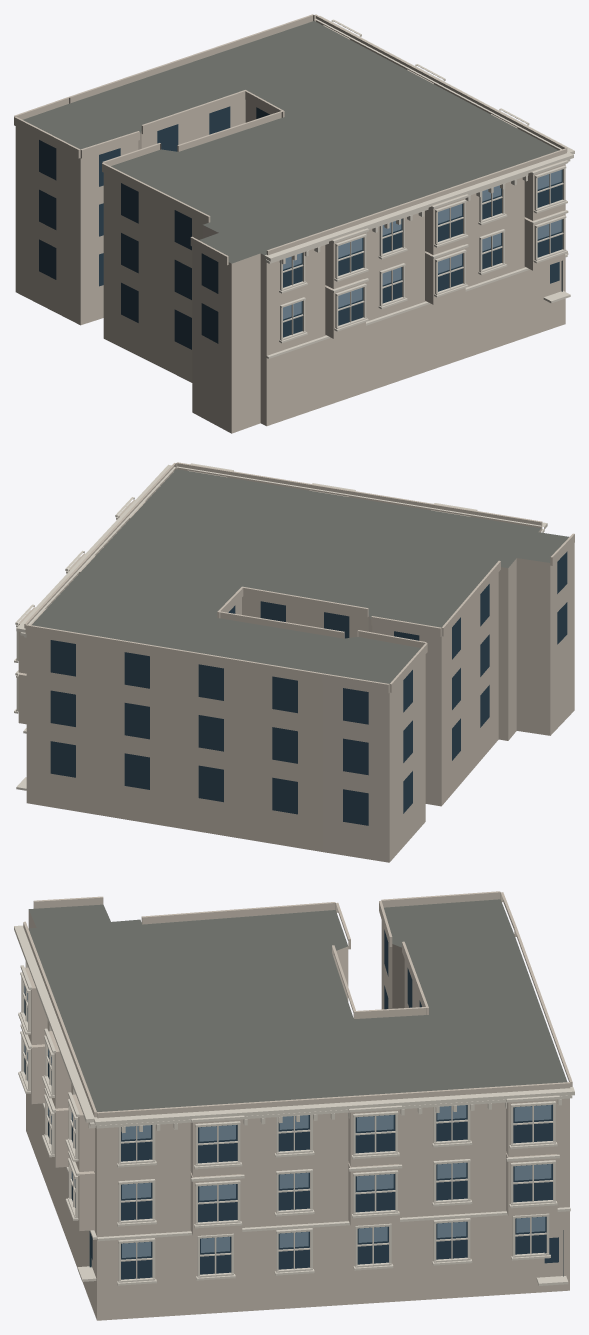
The picture shows the model from 3 angles, top to bottom: view 1: azimuth 30°, elevation 25°; view 2: azimuth 150°, elevation 25°; view 3: azimuth 270°, elevation 25°; orthographic projection. The views are drawn at different scales.
Visible parts, largest first — view 1: Footprint 0 / surface 2, Footprint 0 / surface 1, Facade bay volumes, Cornices and window frames, Inset glazing, Sky reflection panels; view 2: Footprint 0 / surface 2, Footprint 0 / surface 1, Inset glazing, Facade bay volumes, Cornices and window frames; view 3: Footprint 0 / surface 1, Footprint 0 / surface 2, Cornices and window frames, Facade bay volumes, Inset glazing, Sky reflection panels.
Boxes of the visible parts, bbox=[...] form: Footprint 0 / surface 2: bbox=[15, 99, 565, 433]; Footprint 0 / surface 1: bbox=[23, 21, 558, 263]; Facade bay volumes: bbox=[14, 14, 567, 338]; Cornices and window frames: bbox=[264, 16, 574, 358]; Inset glazing: bbox=[39, 106, 562, 349]; Sky reflection panels: bbox=[283, 170, 561, 319]; Footprint 0 / surface 2: bbox=[26, 529, 574, 862]; Footprint 0 / surface 1: bbox=[31, 469, 568, 683]; Inset glazing: bbox=[50, 551, 567, 825]; Facade bay volumes: bbox=[18, 462, 574, 724]; Cornices and window frames: bbox=[14, 463, 547, 790]; Footprint 0 / surface 1: bbox=[28, 899, 567, 1111]; Footprint 0 / surface 2: bbox=[26, 910, 569, 1320]; Cornices and window frames: bbox=[14, 925, 574, 1285]; Facade bay volumes: bbox=[23, 891, 572, 1236]; Inset glazing: bbox=[24, 929, 558, 1279]; Sky reflection panels: bbox=[24, 985, 551, 1257].
Size of the model in its own units: 24.24 by 10.44 by 25.43.
